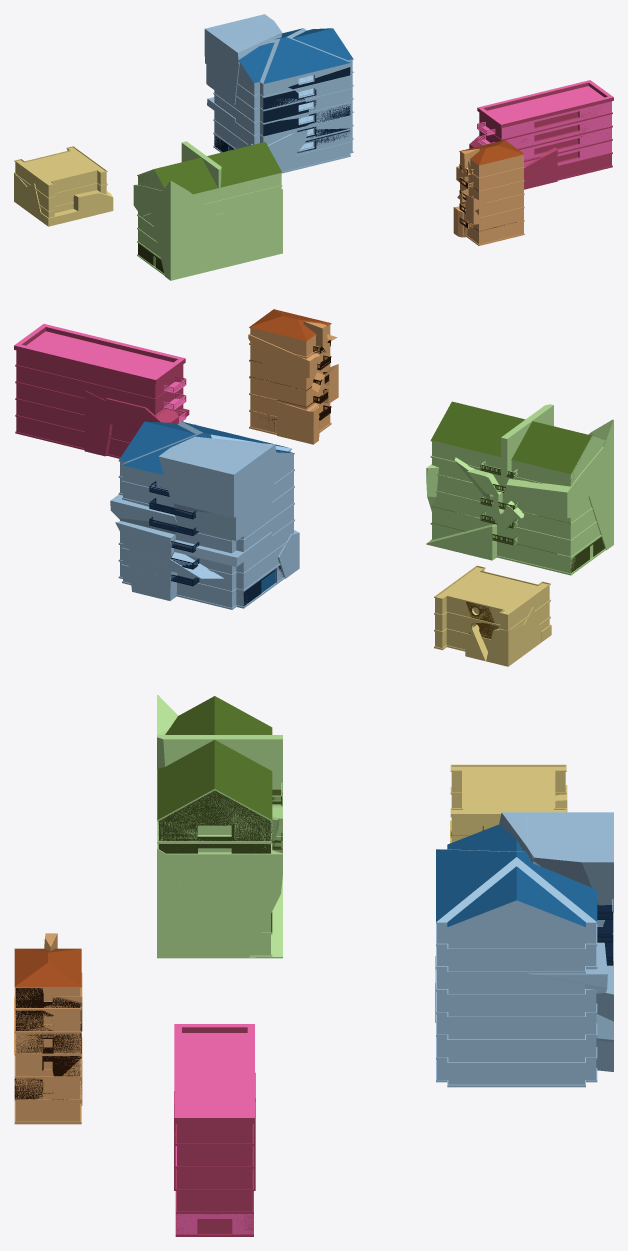
Rendered from buildings_fractured.fbx.
3 views of the same model, one above another, from view 1: azimuth 30°, elevation 25°; view 2: azimuth 150°, elevation 25°; view 3: azimuth 270°, elevation 25° (orthographic). The views are drawn at different scales.
Visible parts, largest first — view 1: building_006, building_004_cell.012, building_005_cell.028, building_003.001_cell.007, building_006_cell.029, building_005_cell.003, building_005_cell.019, building_006_cell.011, building_005_cell.026, building_004_cell.031, building_007, building_005_cell.023 (+21 smaller); view 2: building_005, building_004, building_004_cell.012, building_006, building_006_cell.026, building_005_cell.023, building_005_cell.026, building_003.001, building_003.001_cell.007, building_007, building_005_cell.004, building_006_cell.016 (+32 smaller); view 3: building_006, building_004_cell.012, building_003.001_cell.007, building_005_cell.009, building_005_cell.019, building_006_cell.029, building_006_cell.017, building_005_cell.023, building_006_cell.026, building_003.001_cell.015, building_007, building_004 (+21 smaller).
Boxes of the visible parts, <box> form: building_006: <box>213,28,353,173</box>; building_004_cell.012: <box>477,80,613,180</box>; building_005_cell.028: <box>151,181,232,280</box>; building_003.001_cell.007: <box>457,140,524,245</box>; building_006_cell.029: <box>238,28,353,86</box>; building_005_cell.003: <box>222,189,282,265</box>; building_005_cell.019: <box>220,142,282,207</box>; building_006_cell.011: <box>235,65,309,122</box>; building_005_cell.026: <box>137,143,281,275</box>; building_004_cell.031: <box>536,90,613,149</box>; building_007: <box>16,147,107,214</box>; building_005_cell.023: <box>137,145,280,271</box>; building_005: <box>430,401,605,575</box>; building_004: <box>14,324,186,458</box>; building_004_cell.012: <box>14,324,185,458</box>; building_006: <box>118,421,294,609</box>; building_006_cell.026: <box>158,436,265,517</box>; building_005_cell.023: <box>436,404,595,571</box>; building_005_cell.026: <box>431,410,605,574</box>; building_003.001: <box>249,313,331,434</box>; building_003.001_cell.007: <box>249,309,331,443</box>; building_007: <box>434,565,550,651</box>; building_005_cell.004: <box>494,447,603,518</box>; building_006_cell.016: <box>210,537,283,609</box>; building_006: <box>436,824,613,1087</box>; building_004_cell.012: <box>174,1024,254,1236</box>; building_003.001_cell.007: <box>14,948,82,1123</box>; building_005_cell.009: <box>166,850,282,958</box>; building_005_cell.019: <box>157,758,272,853</box>; building_006_cell.029: <box>436,824,532,933</box>; building_006_cell.017: <box>490,971,597,1052</box>; building_005_cell.023: <box>157,696,272,956</box>; building_006_cell.026: <box>527,812,613,912</box>; building_003.001_cell.015: <box>14,998,81,1117</box>; building_007: <box>450,764,566,842</box>; building_004: <box>174,1024,254,1234</box>.
Bounding box in the file's own units: 8381 × 1865 × 5271.
